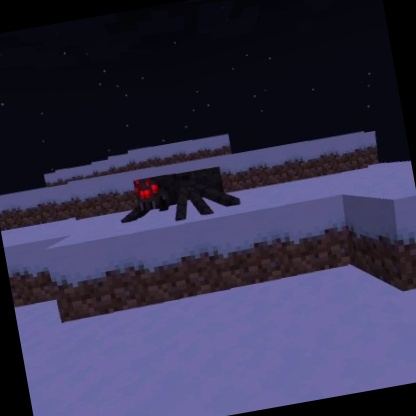spider: (112, 157, 248, 234)
